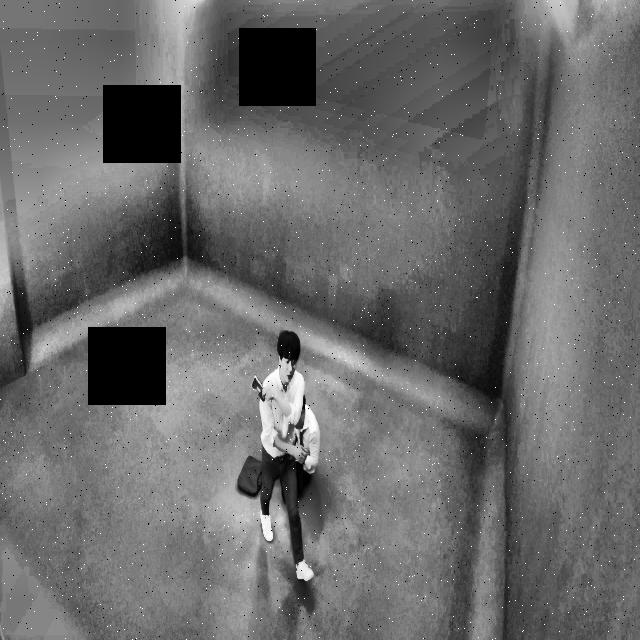assult: (212, 283, 335, 623)
